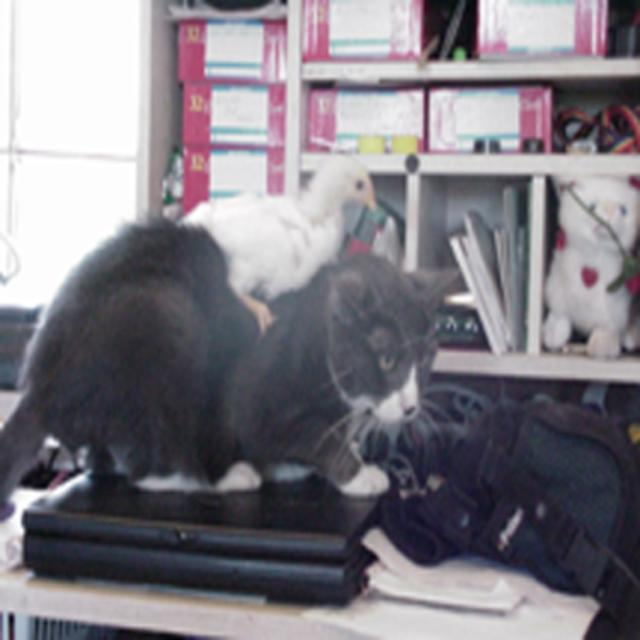Cat: (0, 214, 453, 523)
